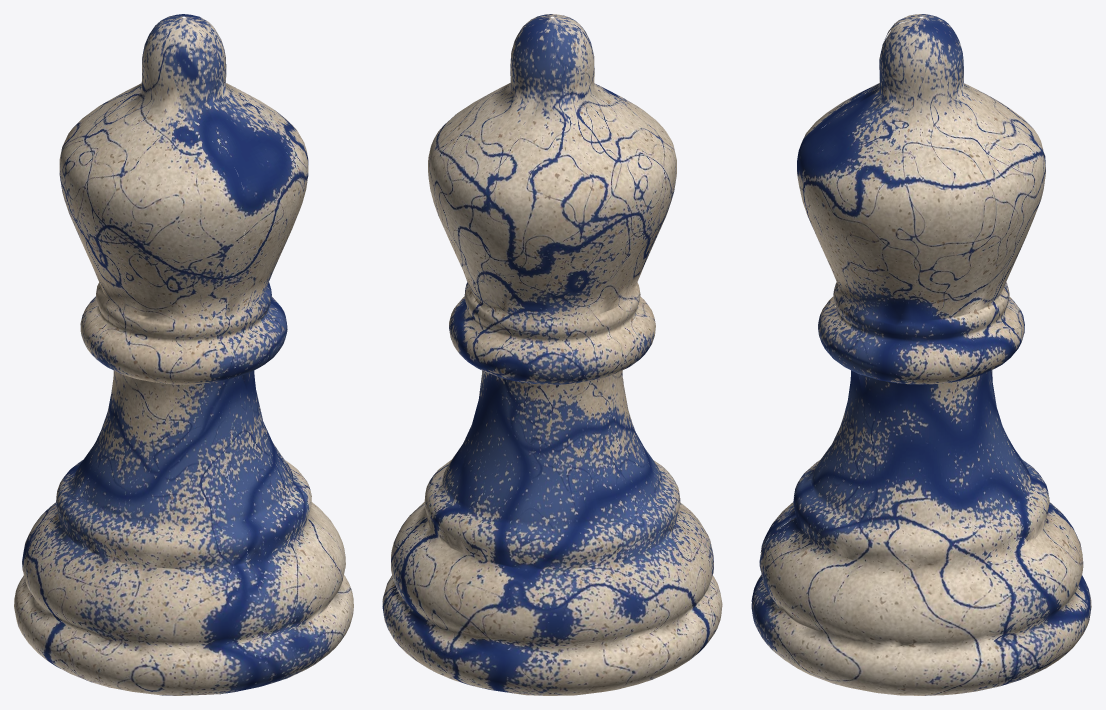
The model's file is bishop-white.glb.
3 views of the same model, side by side, from view 1: azimuth 30°, elevation 25°; view 2: azimuth 150°, elevation 25°; view 3: azimuth 270°, elevation 25° (orthographic).
Visible parts, largest first — view 1: Cobalt Vein white bishop; view 2: Cobalt Vein white bishop; view 3: Cobalt Vein white bishop.
Part boxes in pixels (<box>): Cobalt Vein white bishop: <box>14,14,353,695</box>; Cobalt Vein white bishop: <box>382,14,722,695</box>; Cobalt Vein white bishop: <box>751,14,1091,695</box>.
Size of the model in its own units: 0.5714 by 1.15 by 0.5719.
1 material, 1 textured.
